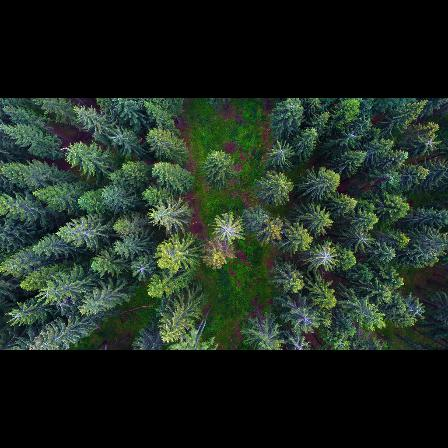Sick: (265, 136, 298, 165), (311, 243, 342, 272), (214, 212, 242, 243), (418, 134, 441, 152)
